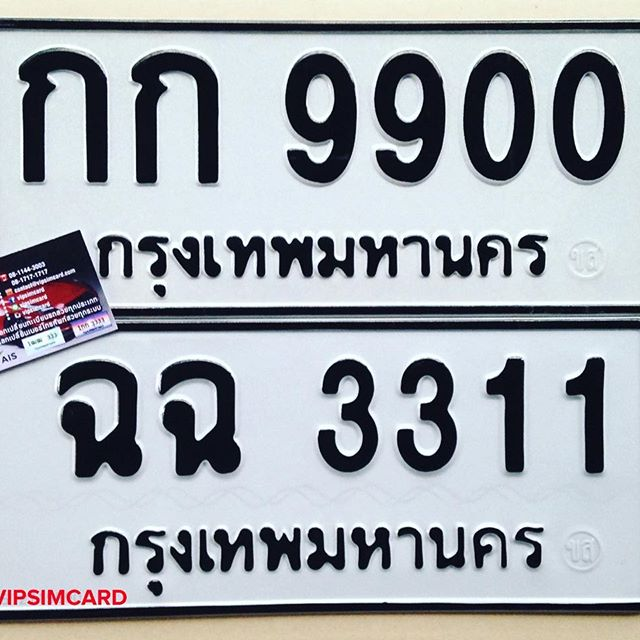Bangkok: (81, 517, 555, 603), (86, 214, 561, 293)
